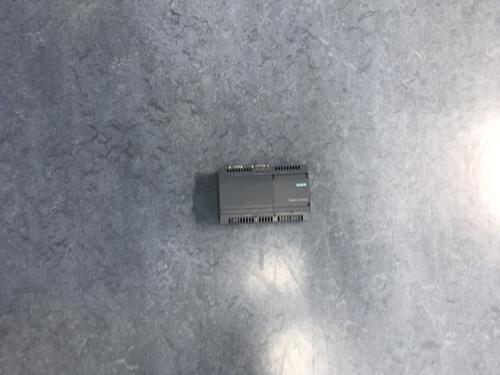device: (218, 164, 311, 224)
